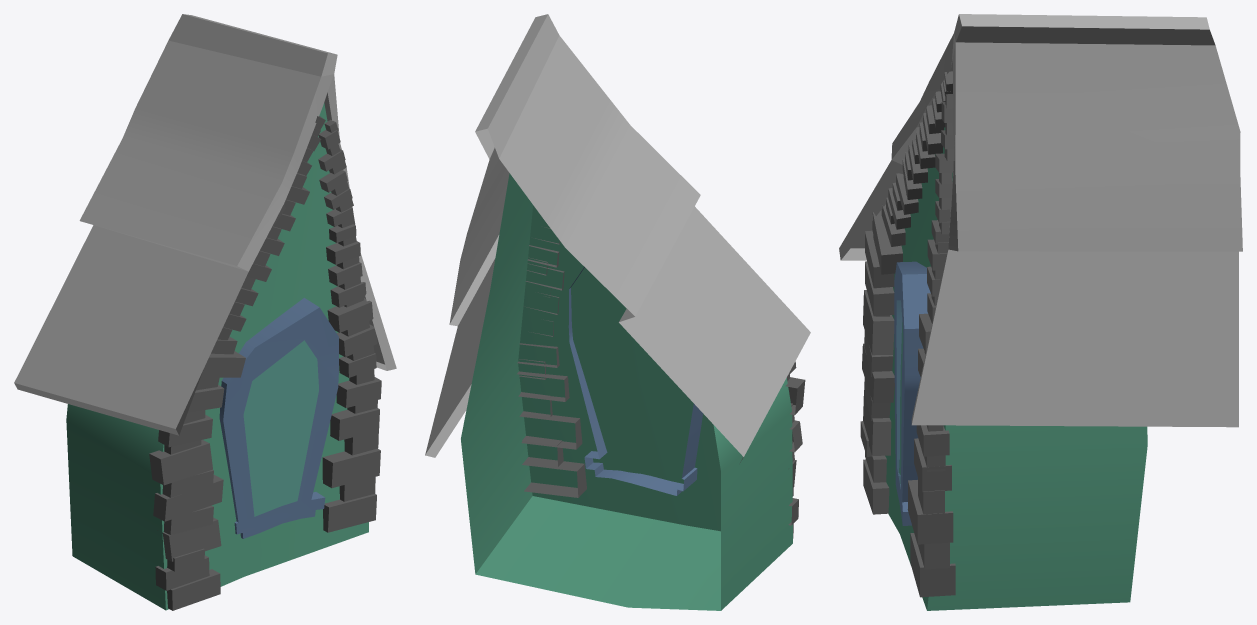
The model's file is FOR UNITYYYYY.fbx.
3 renders of one model, left to right at view 1: azimuth 30°, elevation 25°; view 2: azimuth 150°, elevation 25°; view 3: azimuth 270°, elevation 25°, orthographic. The views are drawn at different scales.
Parts seen in each view (by area): view 1: pCube77; view 2: pCube77; view 3: pCube77.
Boxes of the visible parts, left/top/right/bottom form: pCube77: left=14, top=14, right=396, bottom=610; pCube77: left=425, top=14, right=810, bottom=610; pCube77: left=839, top=14, right=1242, bottom=610.
Bounding box in the file's own units: 3.34 × 5.22 × 3.2.
